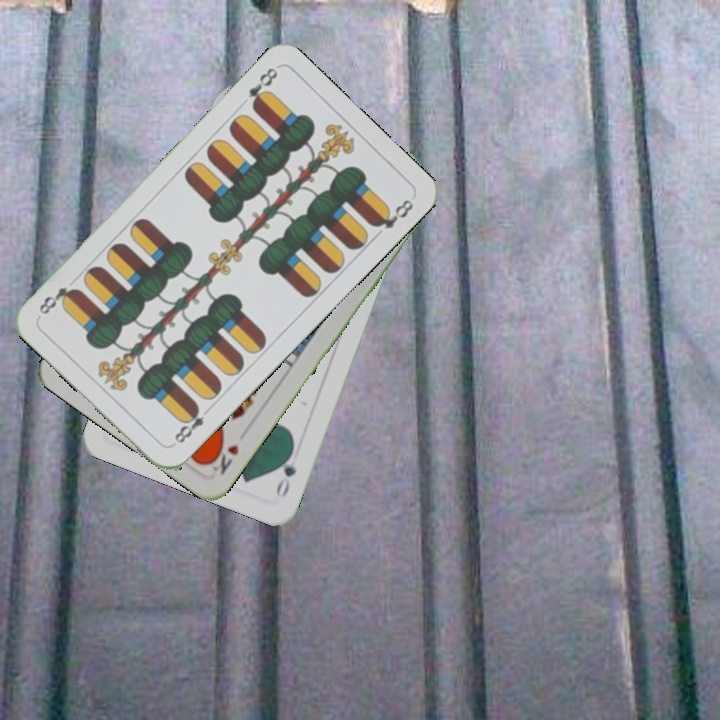E8: (170, 401, 214, 446), (244, 63, 281, 112)
GO: (271, 443, 299, 500)
HK: (204, 438, 242, 478)
